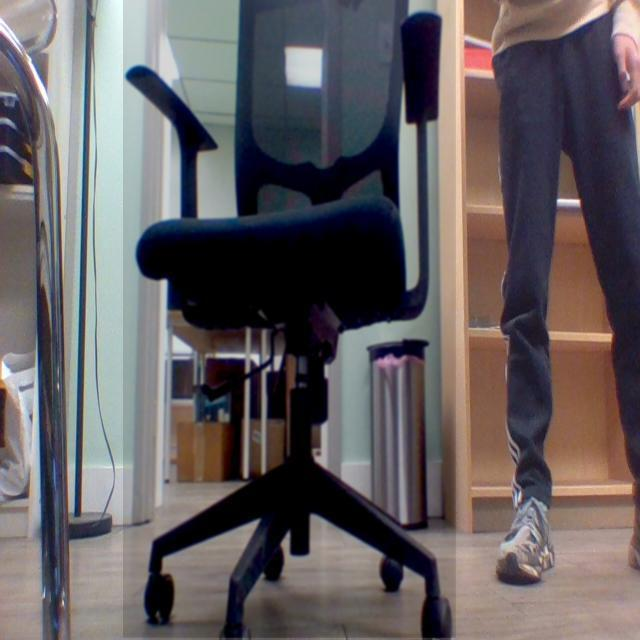chair: (121, 0, 452, 640)
